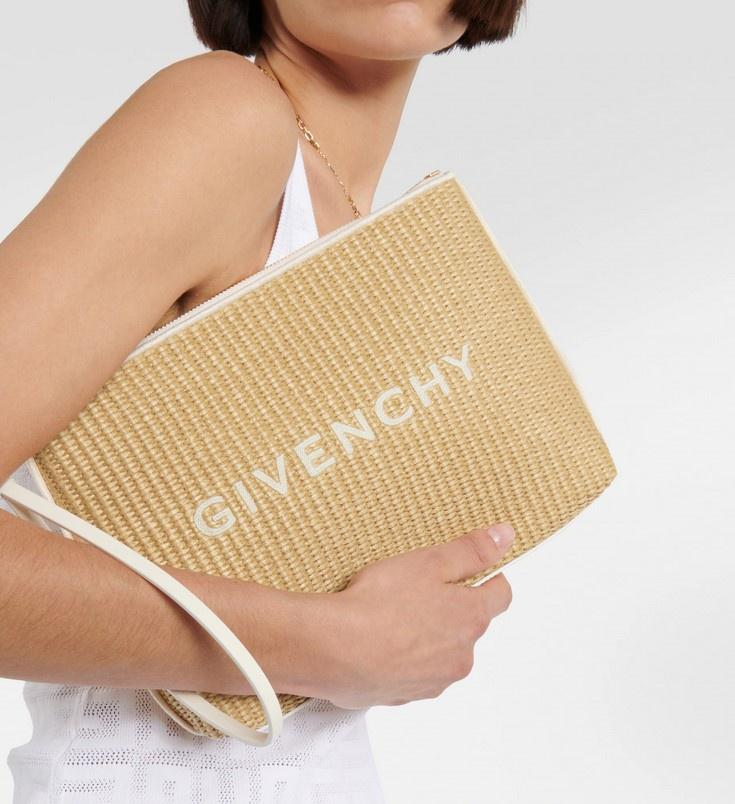GIVENCHY: (178, 338, 493, 561)
